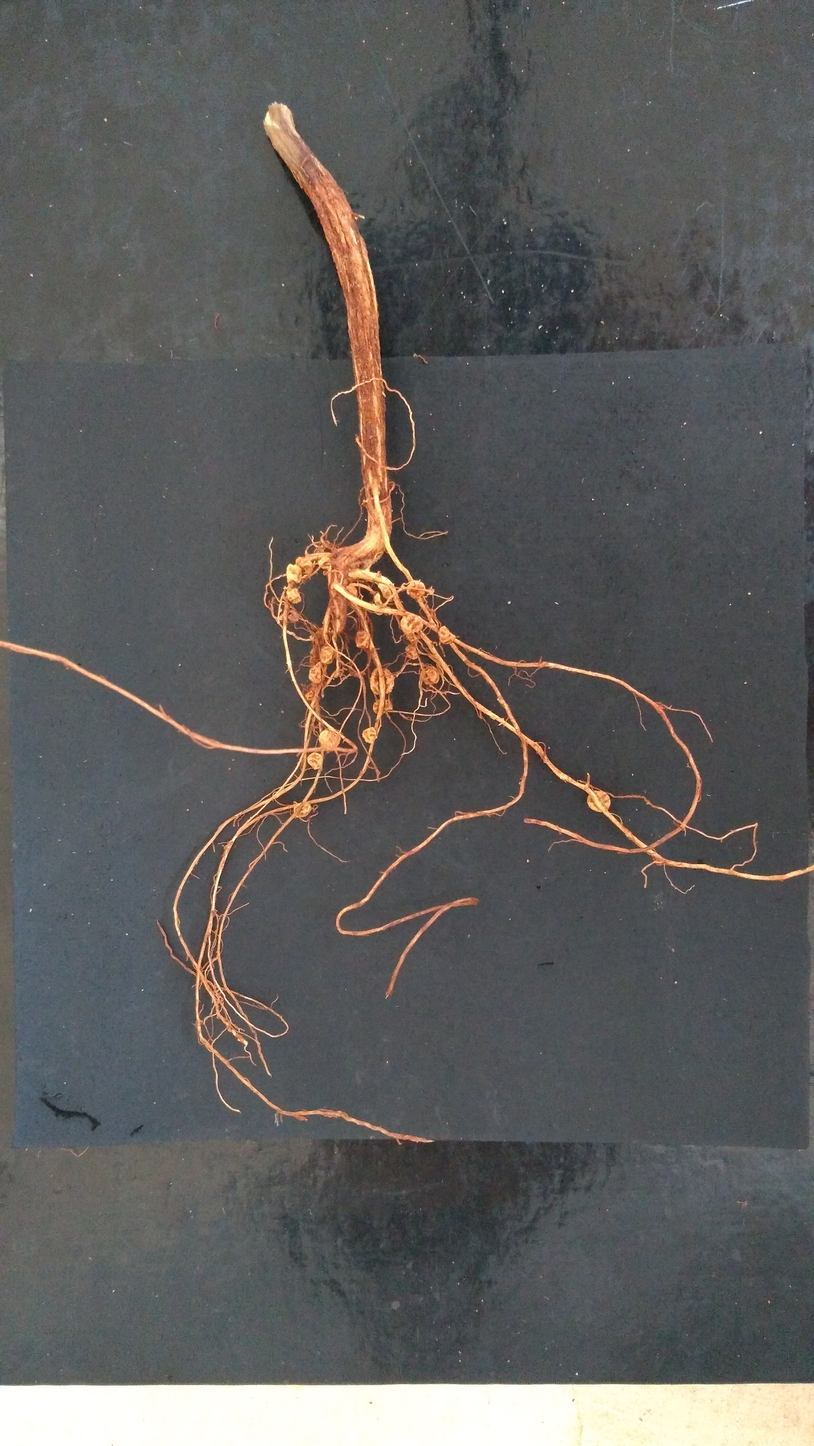nodule: (369, 667, 395, 694), (400, 614, 423, 641), (586, 790, 611, 812), (374, 580, 398, 602), (318, 727, 341, 749), (419, 665, 440, 685), (406, 580, 426, 600), (295, 557, 314, 578), (308, 661, 326, 683), (285, 563, 303, 584), (438, 625, 456, 645), (284, 586, 302, 605), (373, 591, 391, 609), (355, 629, 371, 649), (372, 699, 393, 714), (319, 646, 336, 664), (306, 684, 324, 701), (314, 627, 331, 645), (362, 726, 378, 744), (293, 802, 311, 818), (285, 606, 302, 622), (307, 752, 322, 770), (317, 554, 331, 570), (405, 644, 419, 660), (345, 583, 359, 597), (278, 608, 282, 613)
